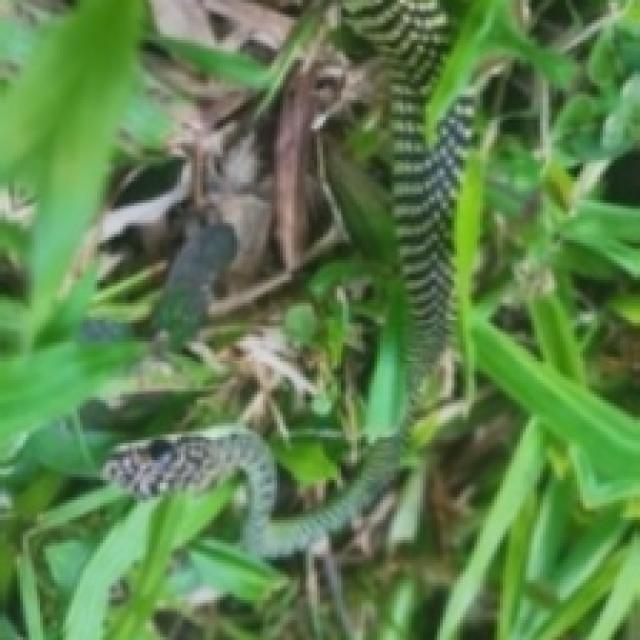paradise tree snake: (109, 0, 471, 554)
